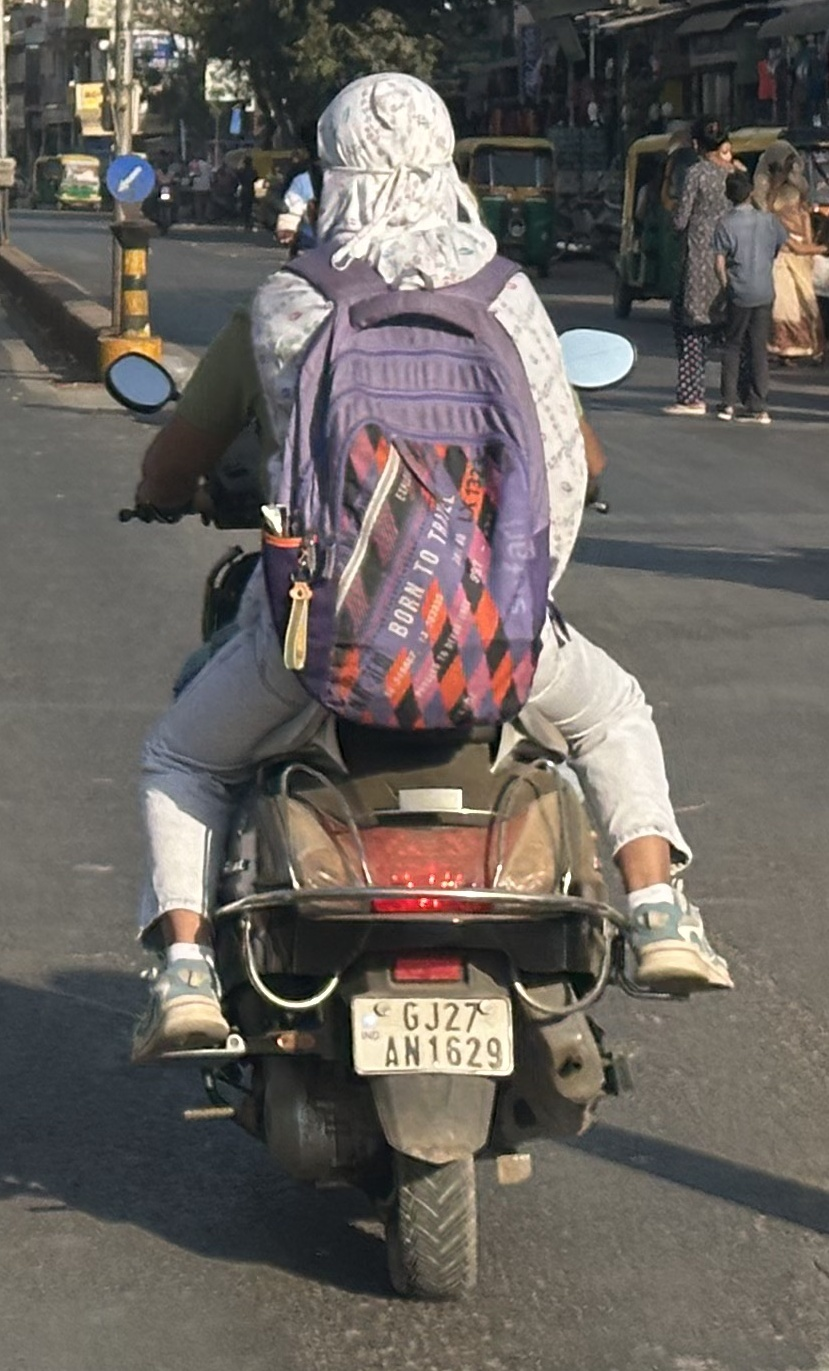BikeWithRider: (117, 64, 731, 1307)
NoHelmet: (300, 66, 474, 228)
